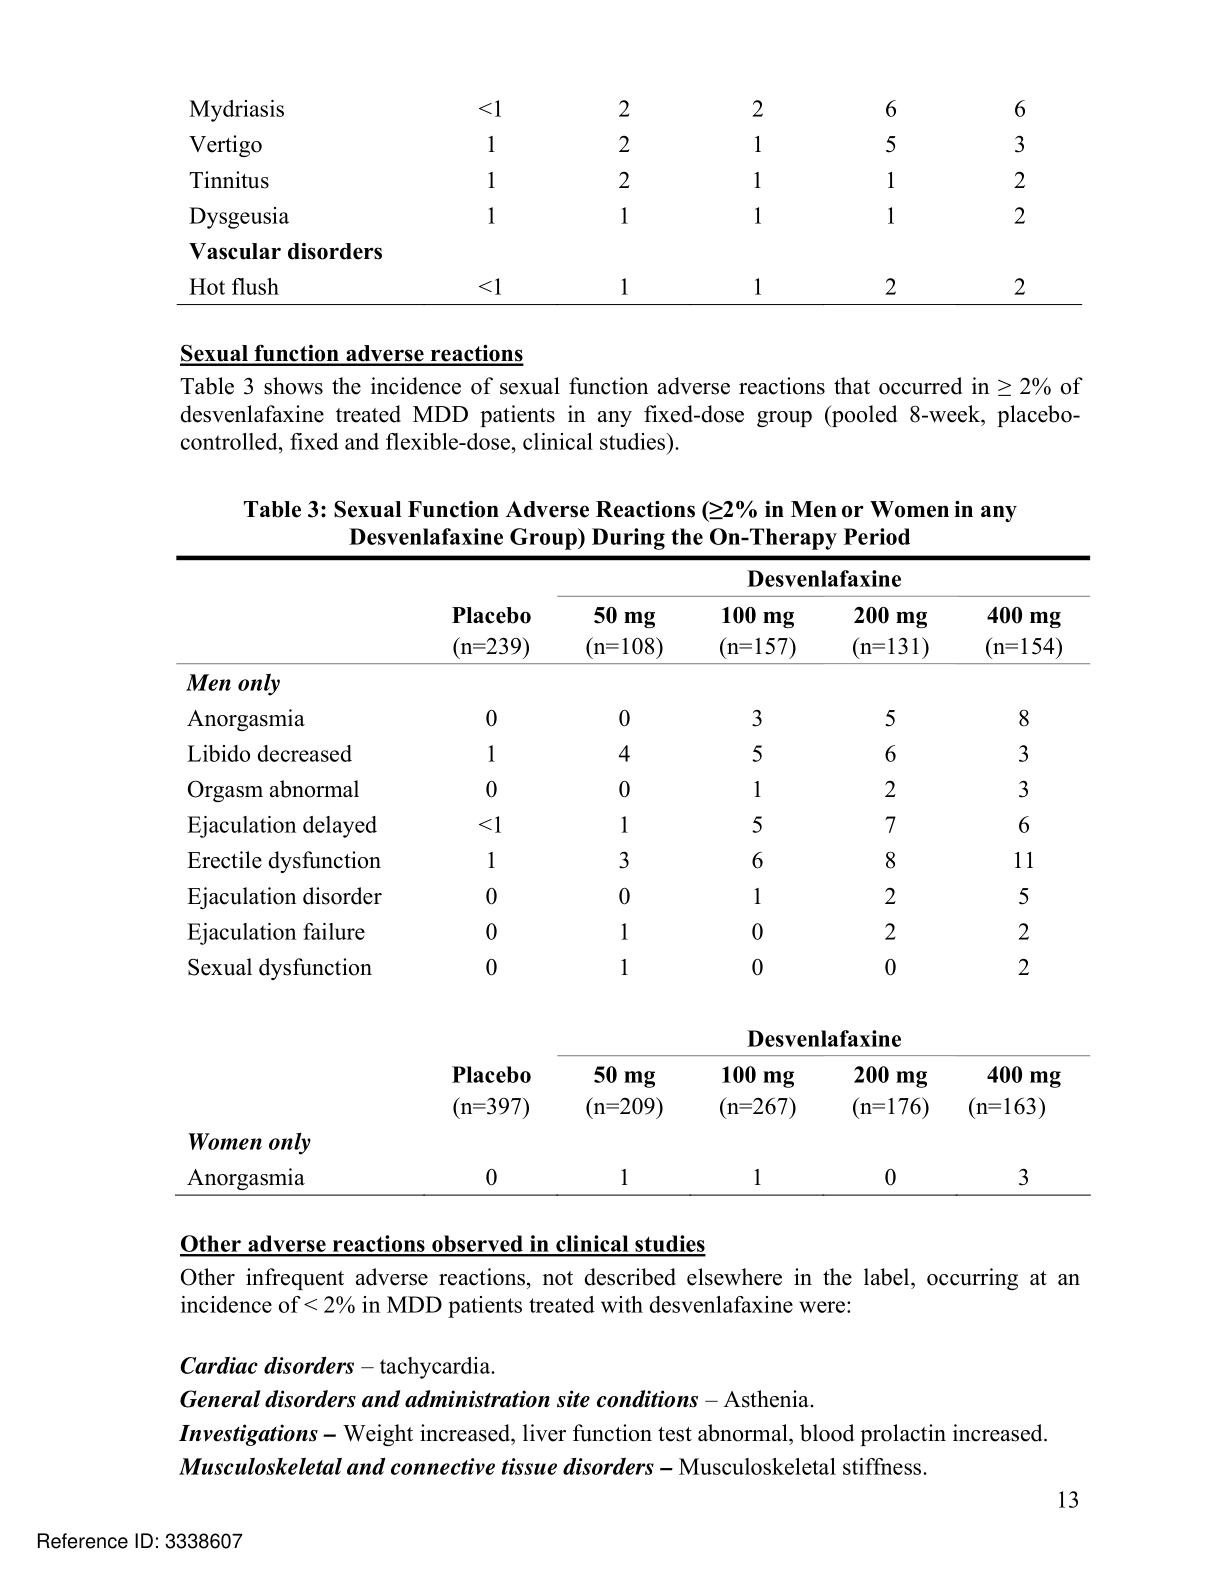partial_lined: (174, 93, 1092, 309)
partial_lined_merged_cells: (168, 552, 1098, 1203)
